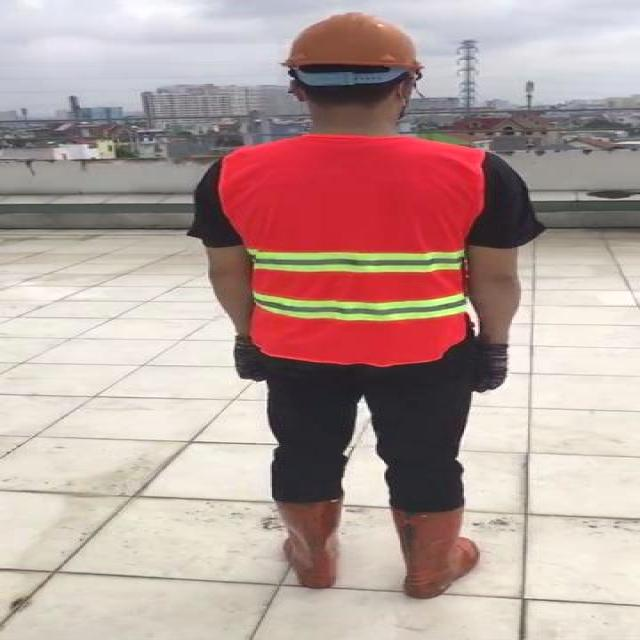boots: (388, 504, 482, 599), (270, 499, 342, 589)
hand_glove: (464, 343, 508, 393), (233, 336, 268, 384)
head_helmet: (283, 10, 423, 73)
person: (186, 7, 546, 607)
vest: (218, 136, 484, 365)
